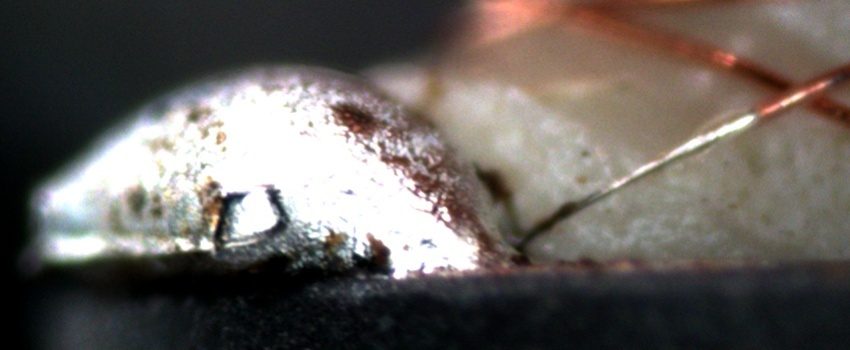CL: (751, 60, 842, 120)
TS: (516, 108, 759, 249)
TTCW: (514, 91, 801, 249)
